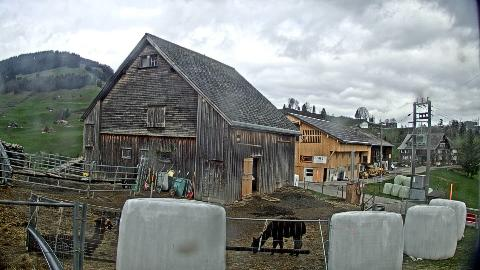car: (390, 162, 396, 172)
sheep: (36, 217, 114, 261), (251, 216, 307, 258), (120, 171, 138, 191), (252, 175, 256, 183)
